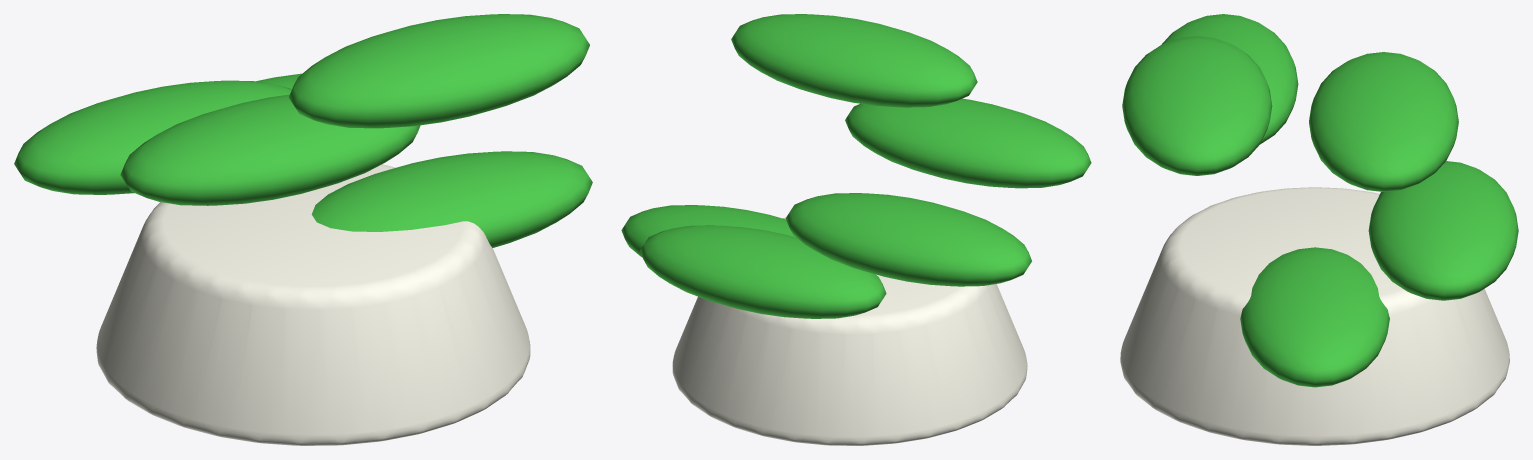
The model's file is Tea.glb.
3 renders of one model, left to right at view 1: azimuth 30°, elevation 25°; view 2: azimuth 150°, elevation 25°; view 3: azimuth 270°, elevation 25°, orthographic. The views are drawn at different scales.
Visible parts, largest first — view 1: Cone, Sphere.004, Sphere.003, Sphere, Sphere.002; view 2: Cone, Sphere.002, Sphere.004, Sphere.001, Sphere.003, Sphere; view 3: Cone, Sphere.004, Sphere.002, Sphere, Sphere.001, Sphere.003.
Boxes of the visible parts, box(x1,y1,x2,y2) form: Cone: box(96, 164, 530, 445); Sphere.004: box(288, 14, 589, 128); Sphere.003: box(120, 94, 420, 205); Sphere: box(311, 151, 592, 247); Sphere.002: box(14, 80, 291, 194); Cone: box(672, 217, 1027, 445); Sphere.002: box(785, 193, 1031, 286); Sphere.004: box(731, 14, 977, 107); Sphere.001: box(640, 225, 886, 318); Sphere.003: box(845, 98, 1091, 188); Sphere: box(621, 205, 795, 257); Cone: box(1120, 187, 1509, 445); Sphere.004: box(1122, 36, 1272, 175); Sphere.002: box(1309, 52, 1458, 191); Sphere: box(1240, 247, 1389, 387); Sphere.001: box(1368, 161, 1518, 300); Sphere.003: box(1161, 14, 1298, 144).
Bounding box in the file's own units: 0.3286 × 0.21 × 0.2389.
